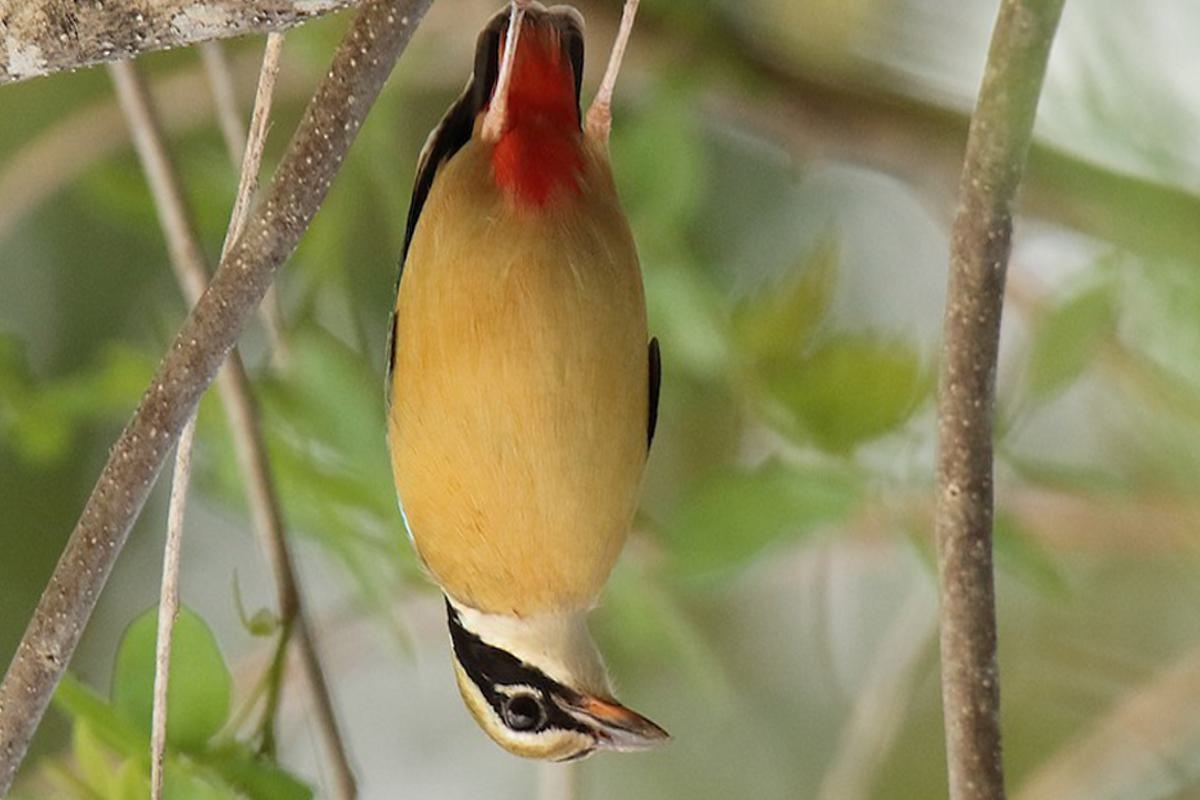pitta: (333, 24, 710, 754)
